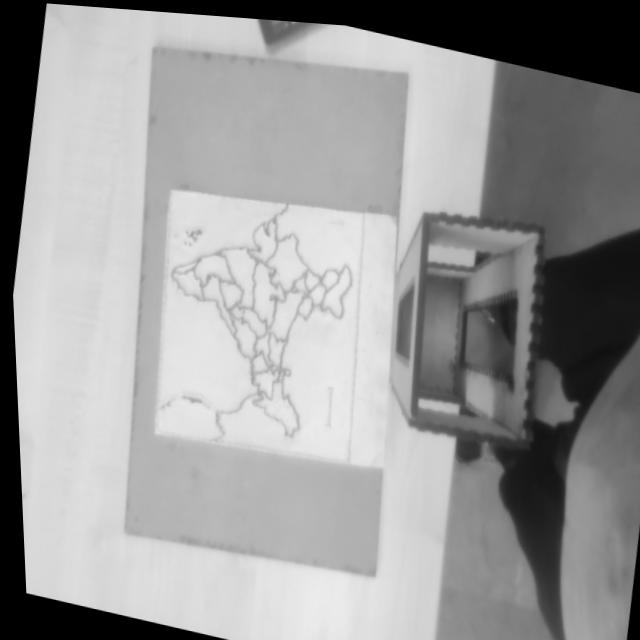map: (155, 191, 365, 462)
